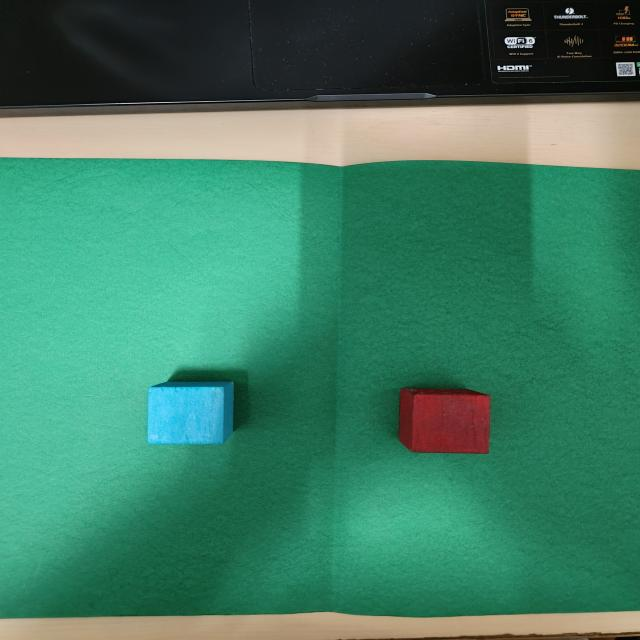blue_block: (149, 387, 225, 443)
red_block: (416, 396, 490, 453)
